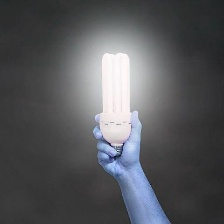light_bulb: (92, 46, 136, 161)
